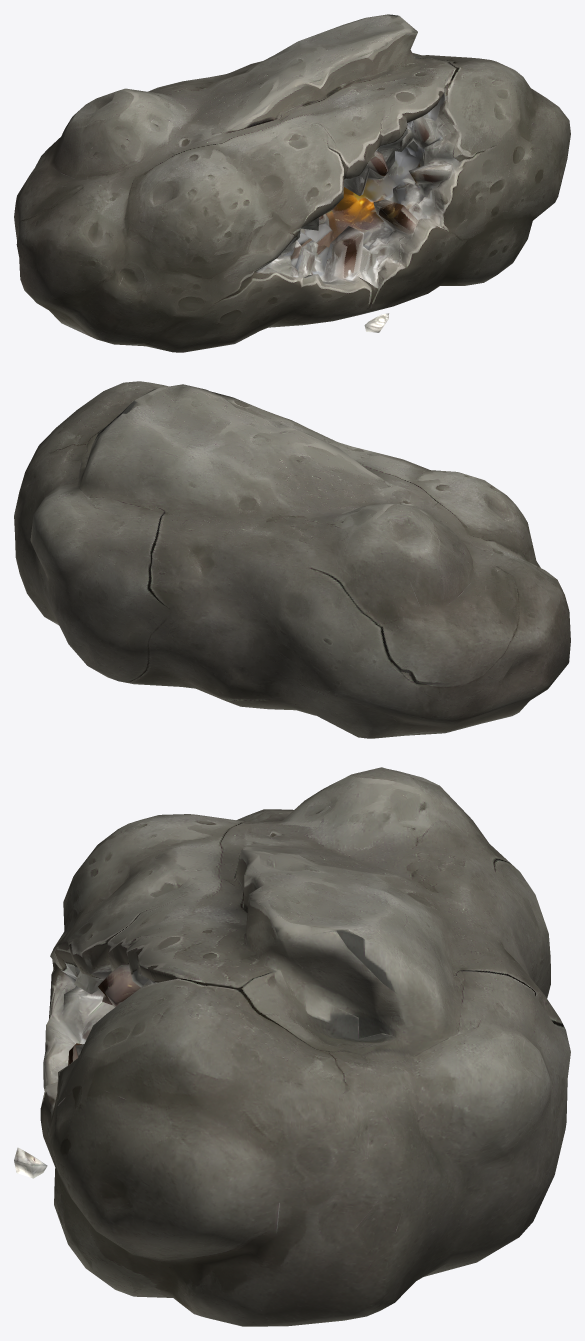
The picture shows the model from 3 angles, top to bottom: view 1: azimuth 30°, elevation 25°; view 2: azimuth 150°, elevation 25°; view 3: azimuth 270°, elevation 25°; orthographic projection. The views are drawn at different scales.
Visible parts, largest first — view 1: Mesh_0; view 2: Mesh_0; view 3: Mesh_0.
Part boxes in pixels (x1,y1,x2,y2): Mesh_0: (14,14,570,352); Mesh_0: (14,381,570,738); Mesh_0: (14,767,570,1326).
Size of the model in its own units: 1.91 by 0.7878 by 1.15.
1 material, 1 textured.
